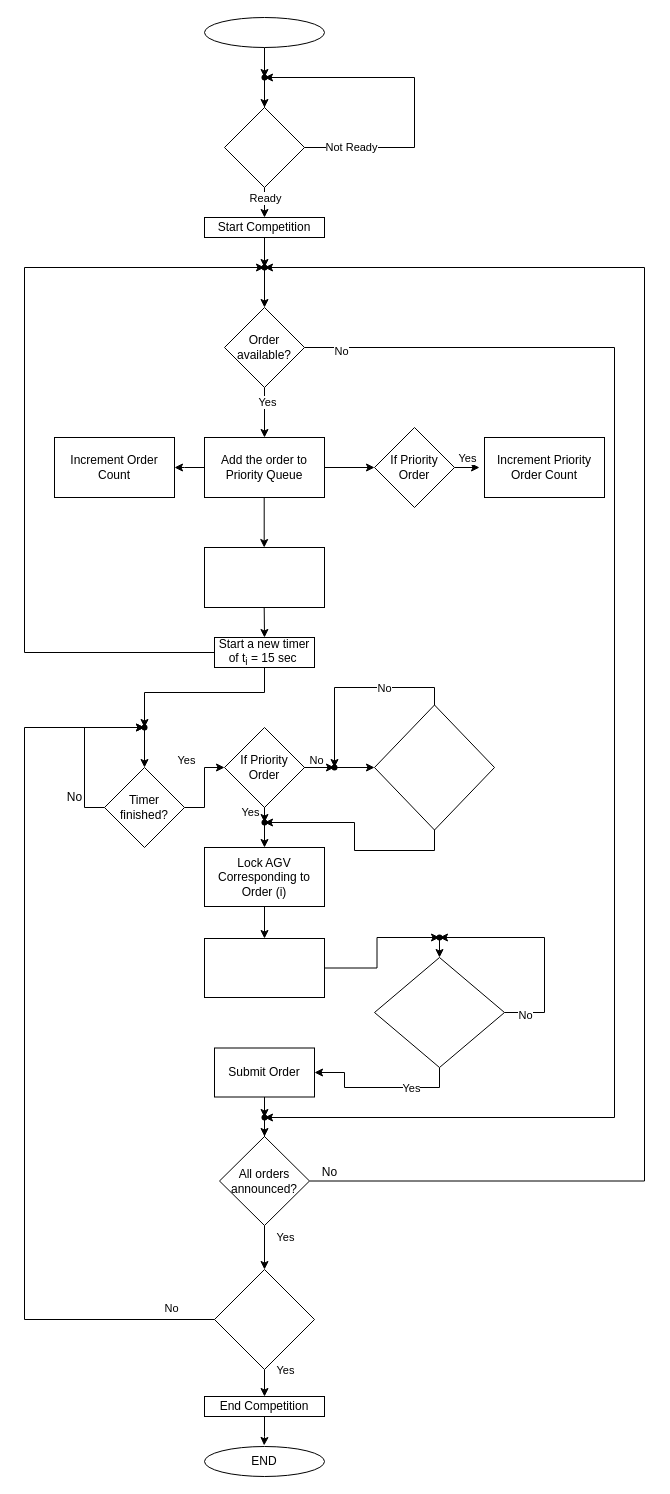
Image size: 670x1494. Some labels were removed from this diagram. Each missing label, with the centre of its shape:
"AGV reached to the destination?" goes at point (439, 1012).
"All orders submitted?" goes at point (264, 1319).
"Check competition state" goes at point (264, 147).
"Check if priority order count is zero?" goes at point (434, 767).
"Get order (i) with highest priority from the queue" goes at point (264, 577).
"Move AGV to location" goes at point (264, 968).
"START" goes at point (264, 32).
